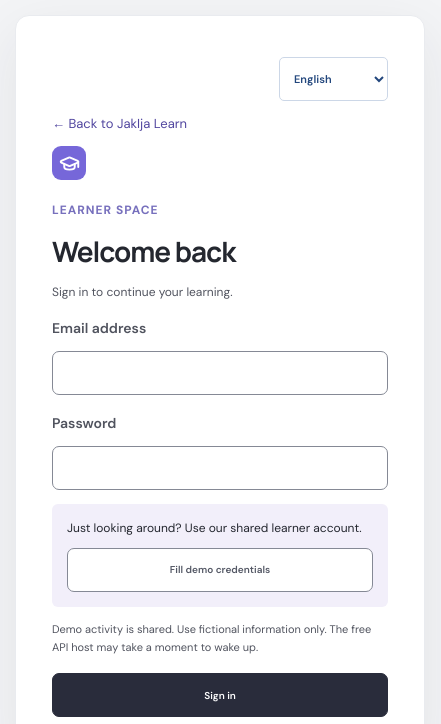
Test case: authentication UI › clears the password field after sign-in is rejected
Expected: the heading "Welcome back" is shown, [52,232,235,270]
In the field labelled "Email address": point(220, 373) [52,351,388,395], type "learner@example.invalid"
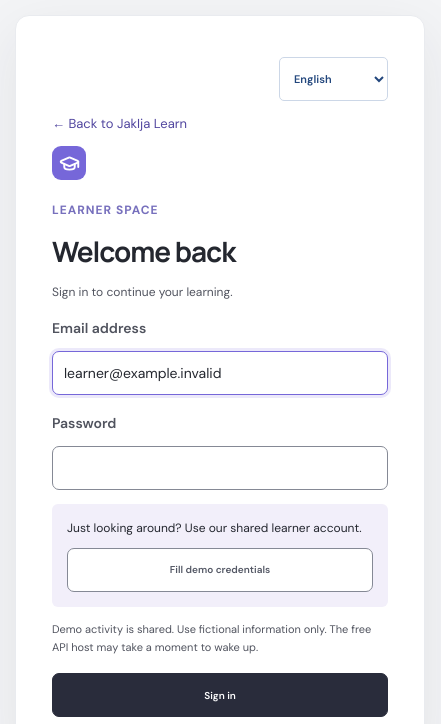
In the password field labelled "Password": point(220, 468) [52,446,388,490], type "temporary-test-password"
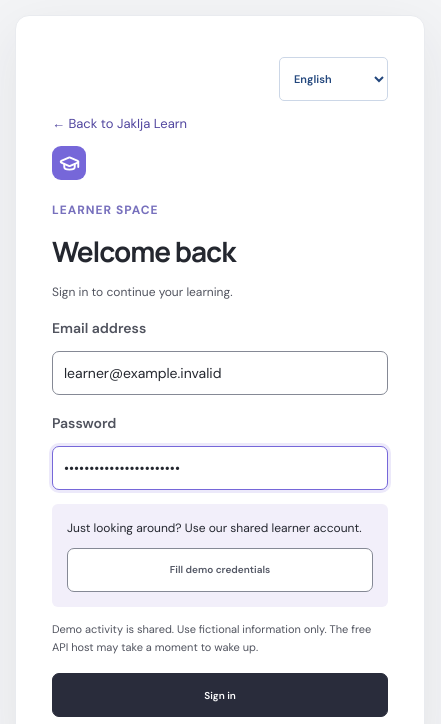
Click the button "Sign in": point(220, 695) [52,673,388,717]
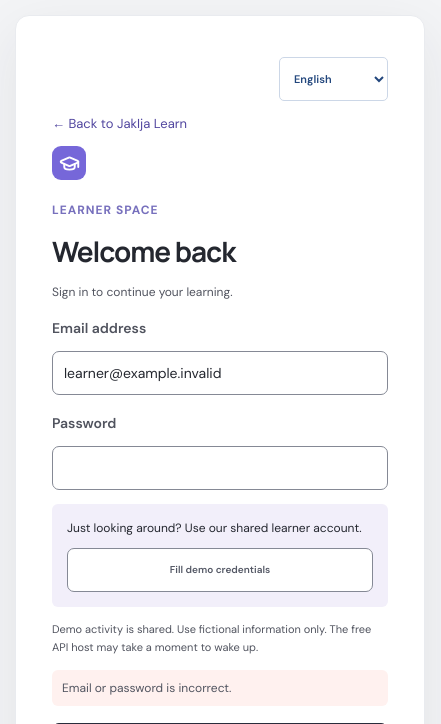
Result: the message reads "Email or password is incorrect." at [62,680,231,696]
Result: the password field labelled "Password" is empty at [52,446,388,490]
